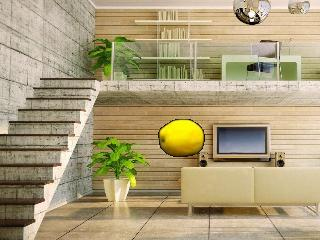lemon: (160, 120, 203, 157)
